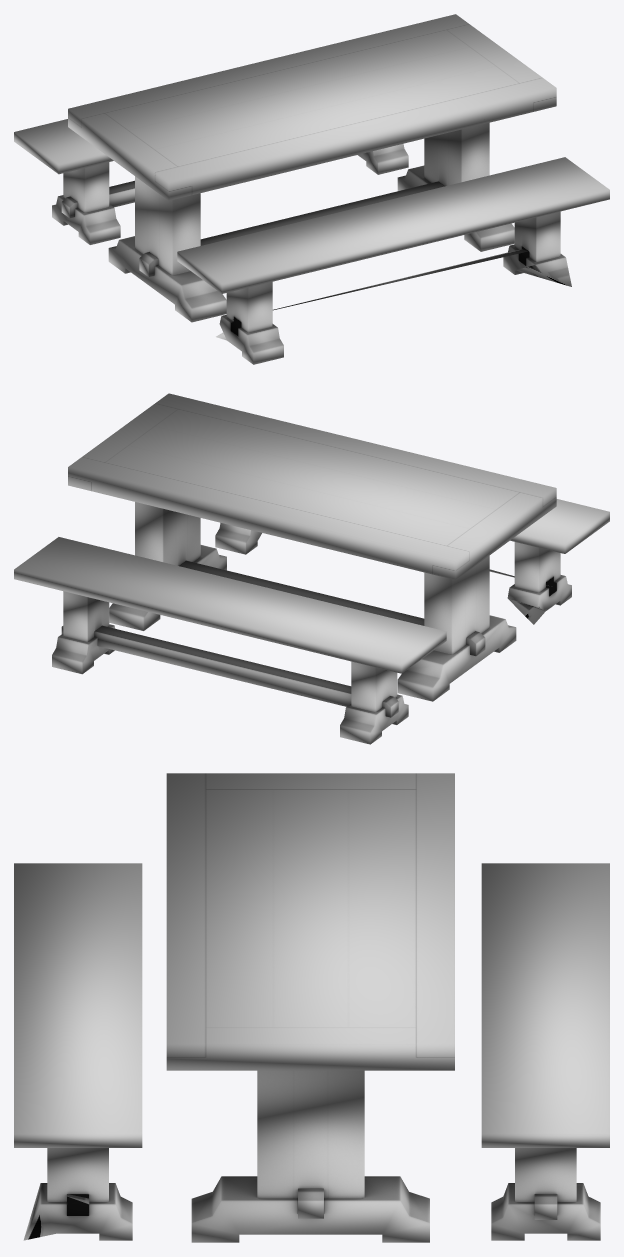
File: bench.gltf
3 views of the same model, one above another, from view 1: azimuth 30°, elevation 25°; view 2: azimuth 150°, elevation 25°; view 3: azimuth 270°, elevation 25° (orthographic). The views are drawn at different scales.
Visible parts, largest first — view 1: wooden_table, wooden_bench, wooden_bench.001; view 2: wooden_table, wooden_bench.001, wooden_bench; view 3: wooden_table, wooden_bench.001, wooden_bench.
Part boxes in pixels (x1,y1,x2,y2): wooden_table: (68, 14, 556, 322); wooden_bench: (177, 157, 609, 364); wooden_bench.001: (14, 119, 408, 244); wooden_table: (68, 393, 556, 701); wooden_bench.001: (14, 537, 446, 744); wooden_bench: (215, 499, 609, 624); wooden_table: (166, 773, 454, 1242); wooden_bench.001: (481, 863, 609, 1240); wooden_bench: (14, 863, 142, 1240).
Bounding box in the file's own units: 1.53 × 0.5811 × 1.42.
Materials: 2 (2 with a texture image).
